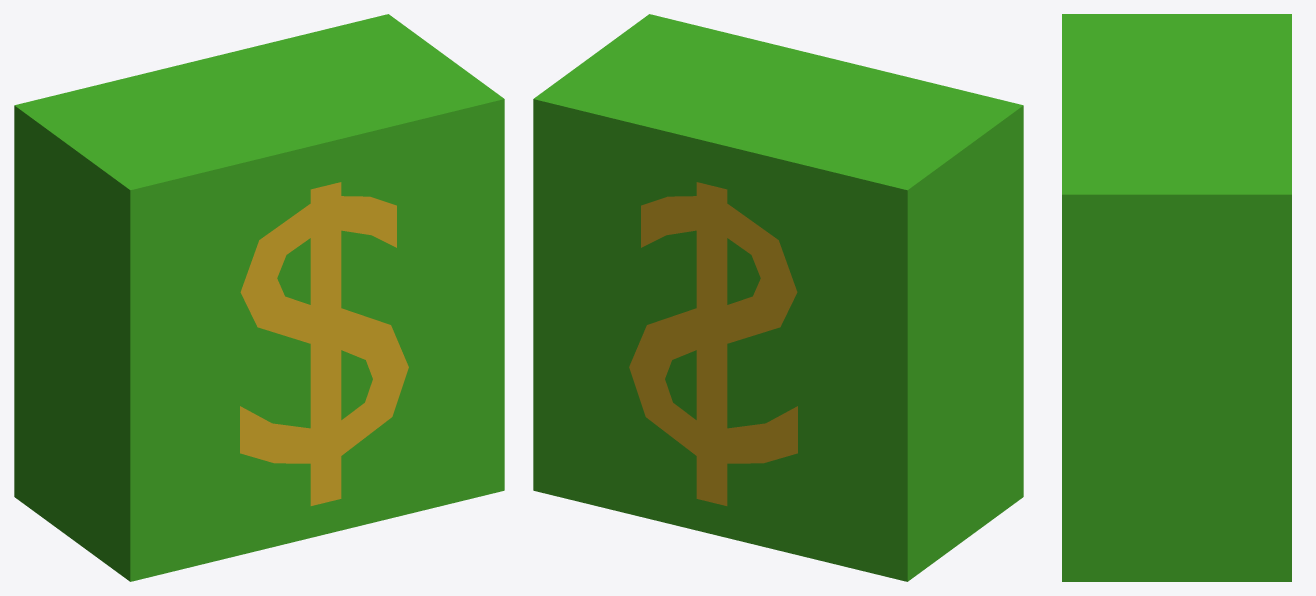
File: pickup_money.glb
3 renders of one model, left to right at view 1: azimuth 30°, elevation 25°; view 2: azimuth 150°, elevation 25°; view 3: azimuth 270°, elevation 25°, orthographic.
Parts seen in each view (by area): view 1: money_pickup; view 2: money_pickup; view 3: money_pickup.
Part boxes in pixels (<box>): money_pickup: <box>14,14,504,581</box>; money_pickup: <box>533,14,1023,581</box>; money_pickup: <box>1062,14,1291,581</box>.
Size of the model in its own units: 1 by 1 by 0.583.
1 material, 1 textured.
